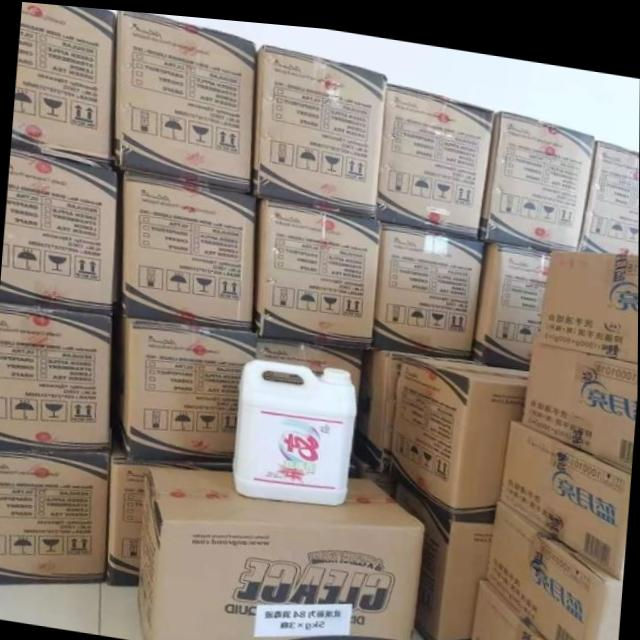box: (135, 465, 426, 640), (112, 8, 256, 187), (254, 40, 387, 212), (389, 349, 528, 511), (483, 487, 623, 640), (499, 409, 630, 571), (122, 167, 256, 325), (120, 313, 255, 460), (0, 148, 118, 314), (253, 194, 382, 342), (378, 76, 494, 228), (10, 2, 116, 166), (475, 102, 595, 243), (391, 472, 491, 640), (0, 301, 113, 449), (522, 333, 638, 461), (375, 214, 484, 350), (0, 451, 111, 582), (537, 240, 639, 352), (473, 234, 550, 360), (357, 341, 416, 465), (578, 128, 639, 243), (470, 568, 559, 640), (254, 332, 365, 389), (105, 458, 148, 584)
